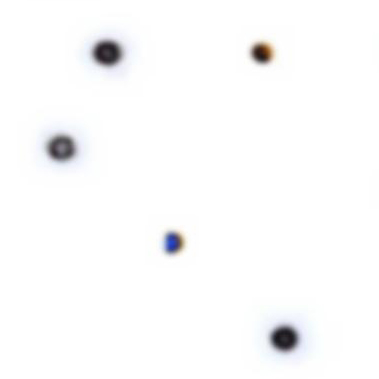cancer: (31, 113, 98, 184), (253, 306, 318, 369), (72, 23, 140, 83)
normal: (151, 216, 205, 265), (245, 37, 285, 81)
